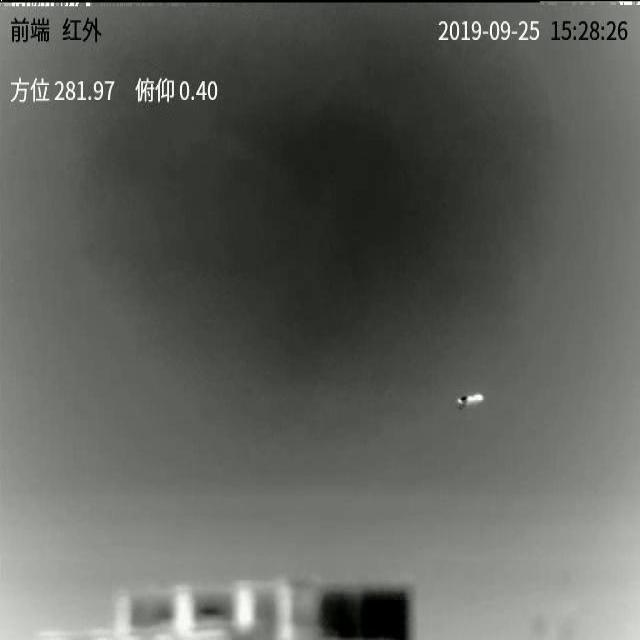drone: (456, 393, 484, 411)
